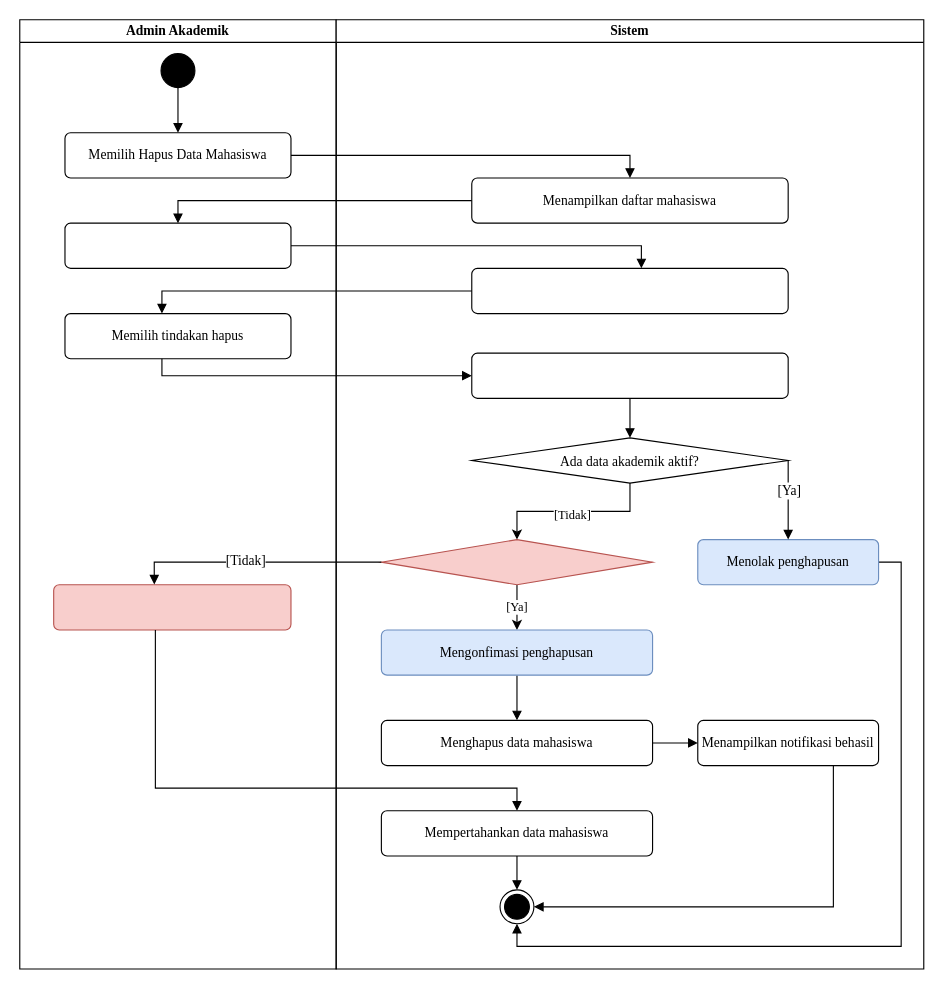
This 944x989 diagram has some shape labels left out. Here are the shapes that lost their labels. From the top down, the box of each, then its label:
(64, 222, 291, 268): Mencari dan memilih mahasiswa
(471, 267, 788, 314): Menampilkan detail mahasiswa
(471, 352, 788, 398): Memeriksa data akademik aktif
(380, 538, 653, 585): Konfirmasi penghapusan?
(53, 584, 291, 630): Membatalkan penghapusan
